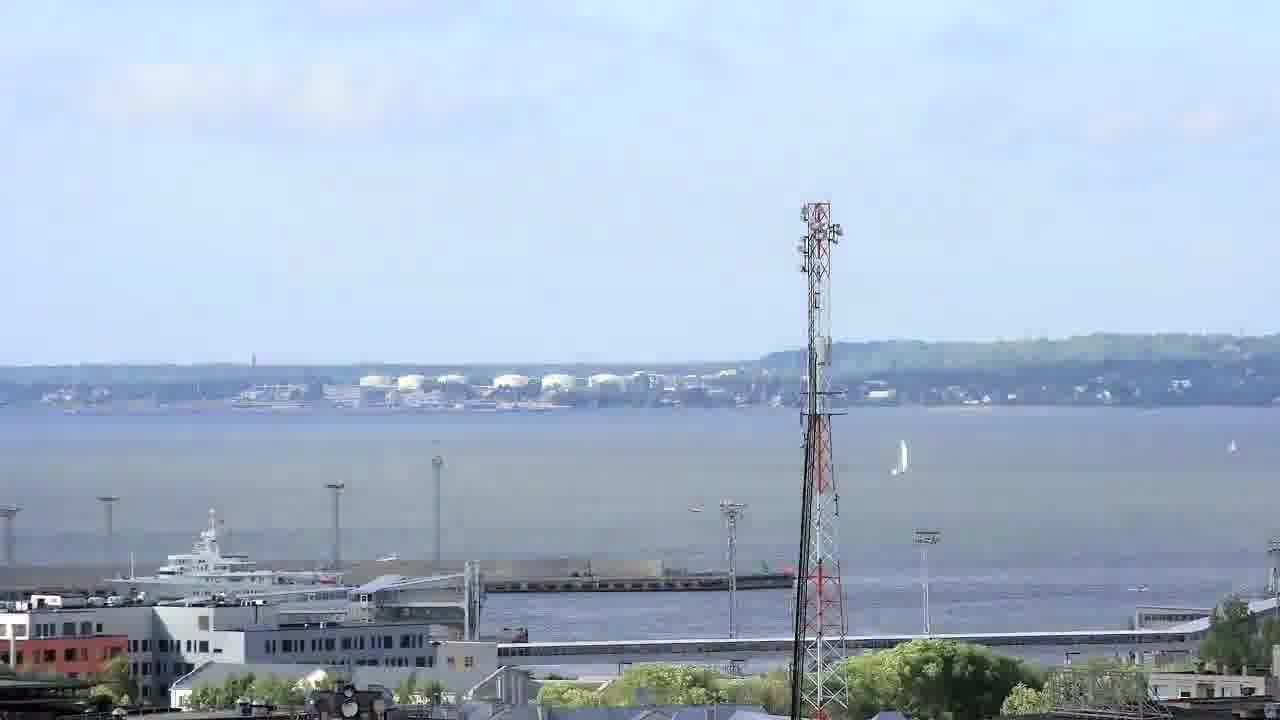type-2: (876, 428, 935, 486)
type-3: (84, 515, 355, 603)
